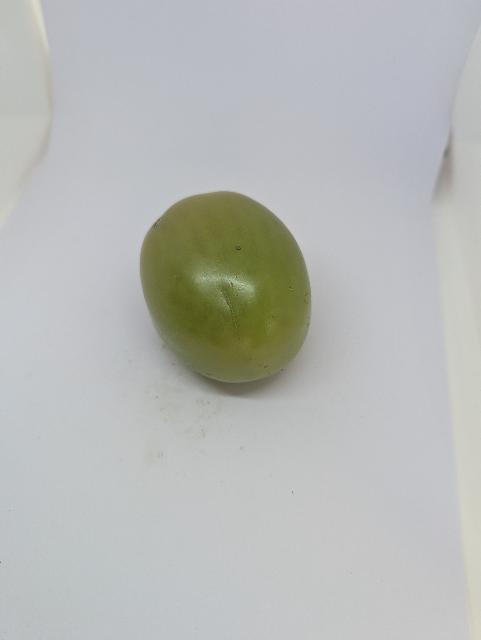green: (129, 173, 323, 395)
